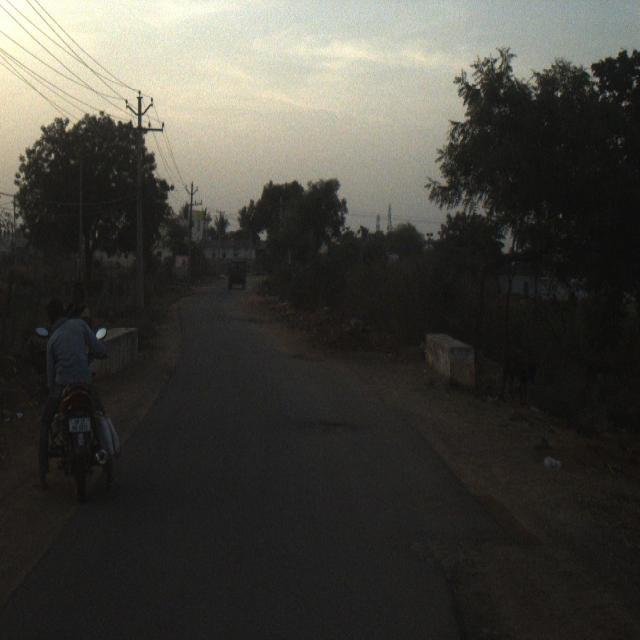Pothole: (412, 523, 635, 640), (306, 384, 373, 448)
